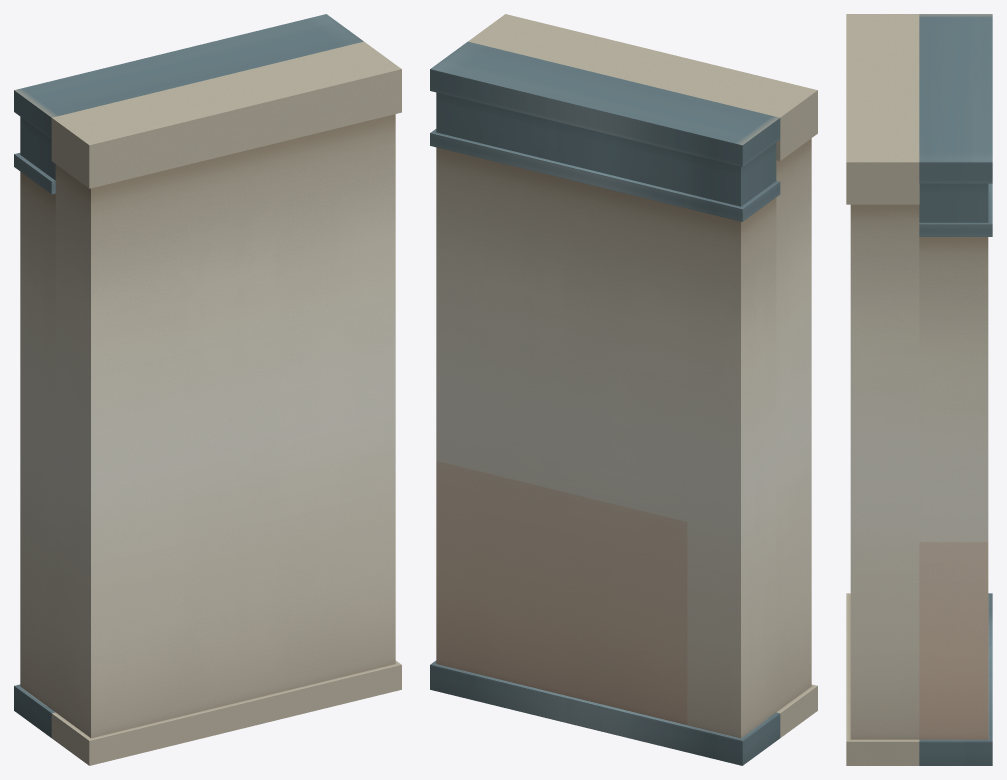
File: SHW_Pillar_01_22.fbx
The picture shows the model from 3 angles, left to right: view 1: azimuth 30°, elevation 25°; view 2: azimuth 150°, elevation 25°; view 3: azimuth 270°, elevation 25°; orthographic projection. The views are drawn at different scales.
Visible parts, largest first — view 1: shw_pillar_01_22; view 2: shw_pillar_01_22; view 3: shw_pillar_01_22.
Boxes of the visible parts, x1,y1,x2,y2 form: shw_pillar_01_22: (14, 14, 401, 765); shw_pillar_01_22: (430, 14, 817, 765); shw_pillar_01_22: (846, 14, 992, 765).
Bounding box in the file's own units: 158 × 300 × 66.
